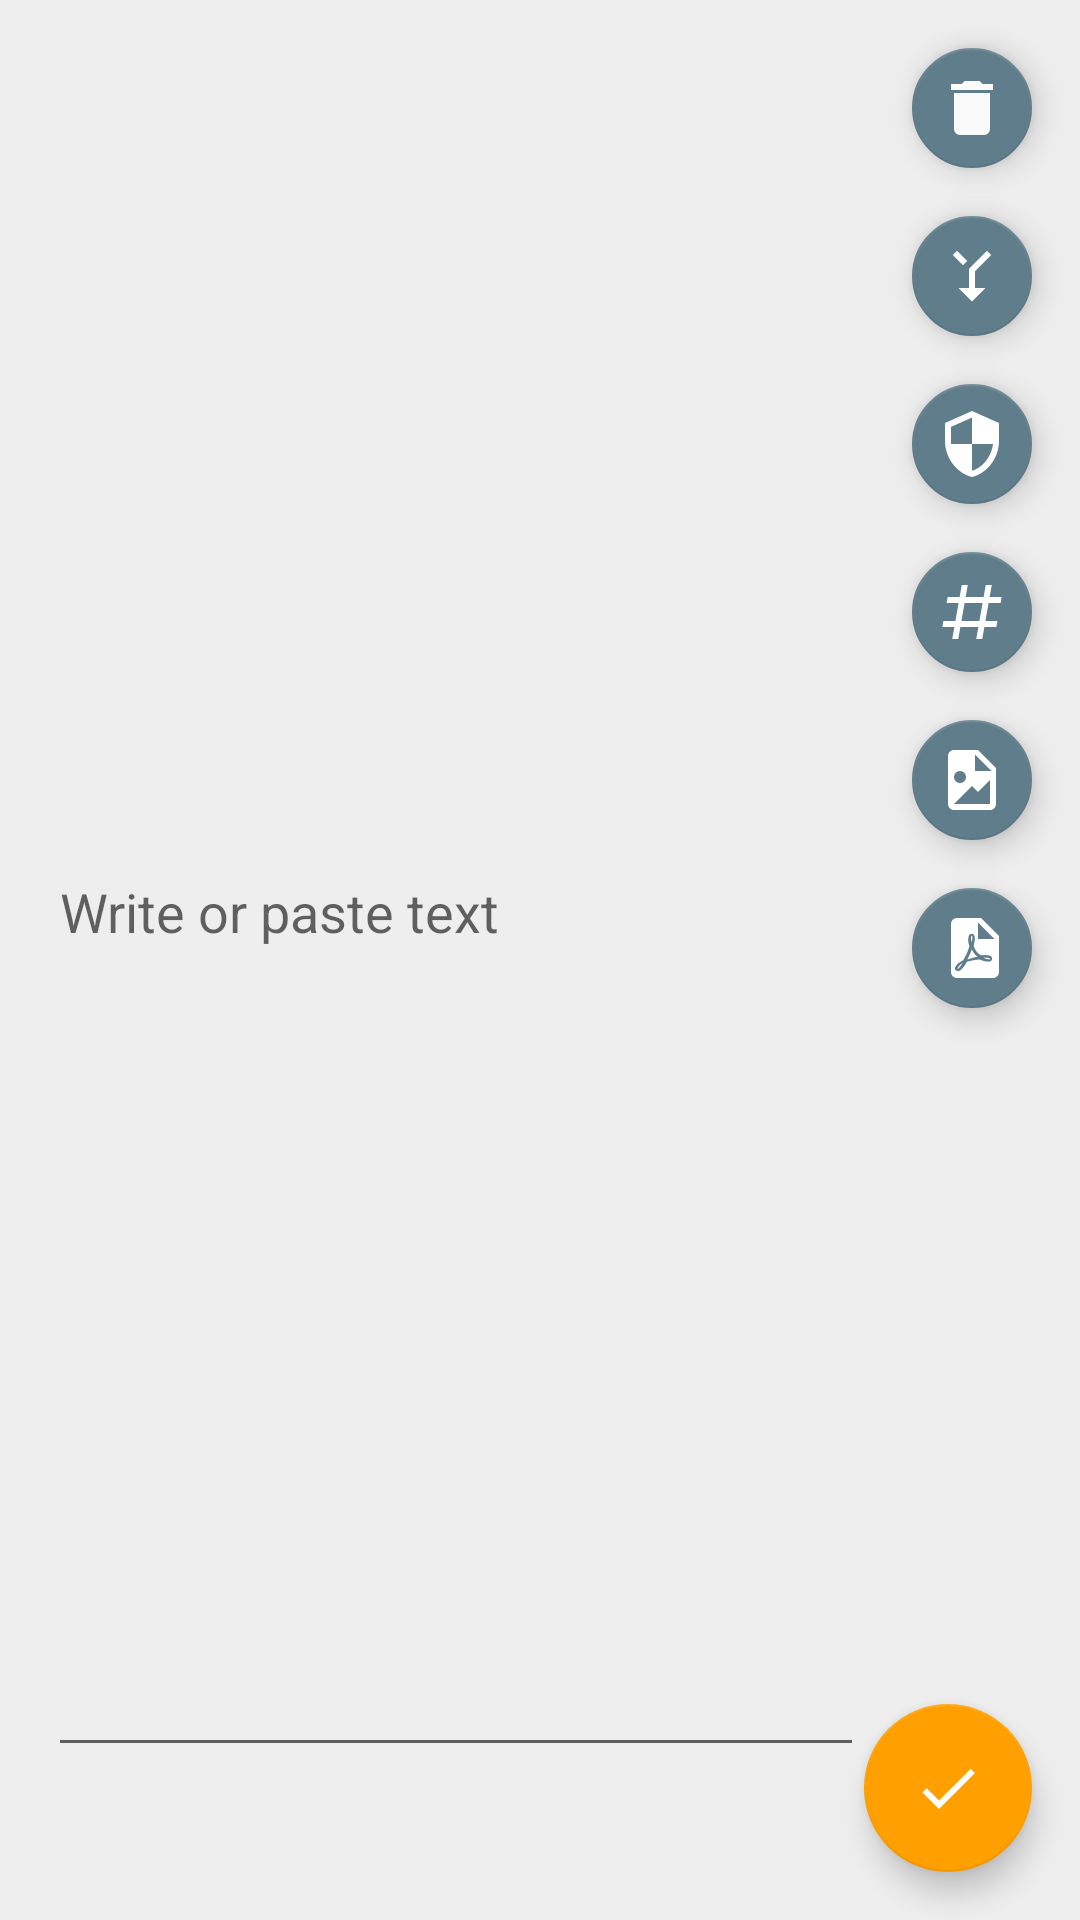

Where to tap for icons on this 1080px x 1920px app screen, as [x,y]:
call merge: [972,276]
check: [948,1788]
delete: [972,108]
file: [972,780]
pound: [972,612]
security: [972,444]
